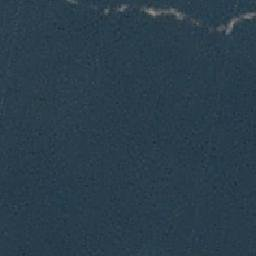debris: (139, 6, 186, 18), (213, 22, 236, 36), (227, 13, 255, 24), (117, 5, 128, 12)
